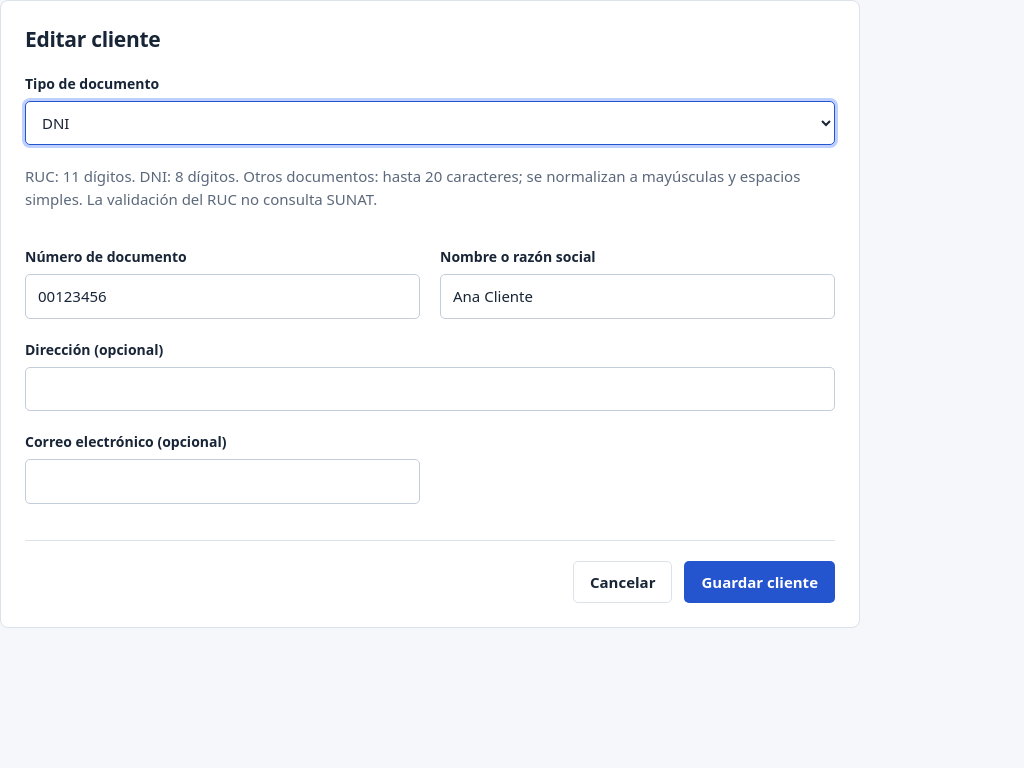
it: formulario de clientes › conserva datos ante error 403
Click the button "Guardar cliente" at point(760, 582), box [684, 561, 835, 603]
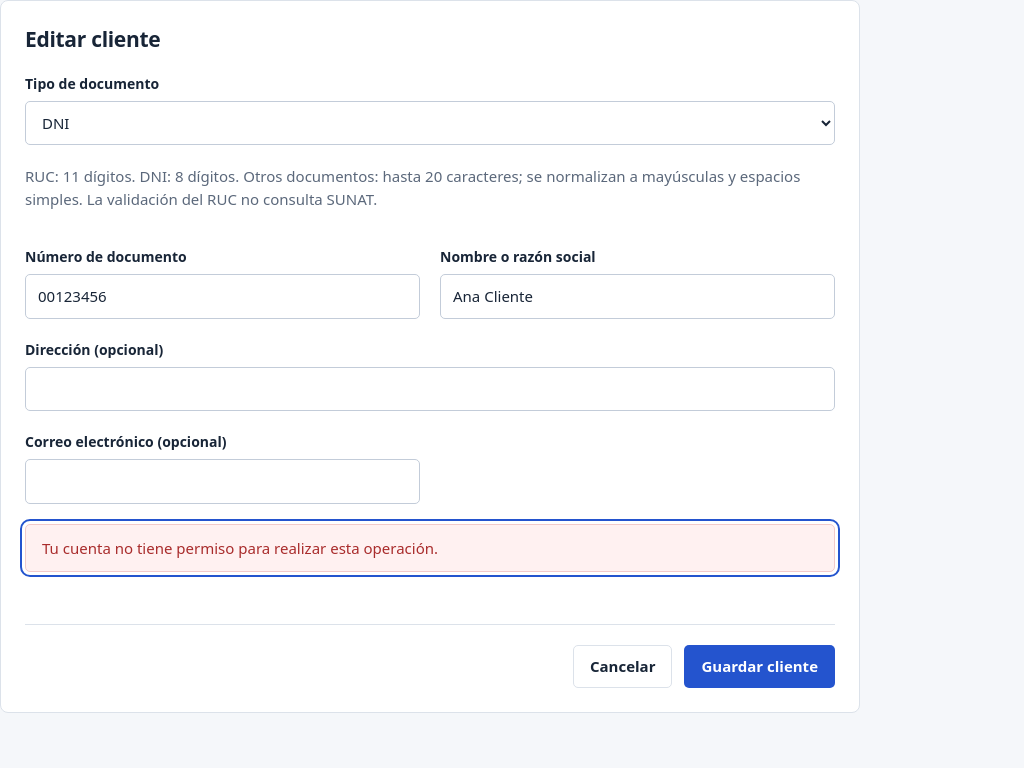
Expected: the field labelled "Número de documento" holds "00123456", [25, 274, 420, 319]
Expected: the message "Tu cuenta no tiene permiso para realizar esta operación." is shown, [25, 524, 835, 572]
